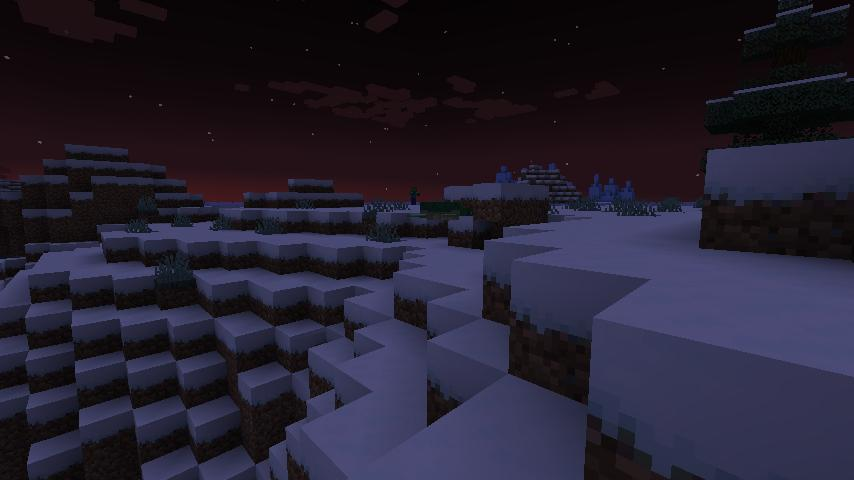turtle: (413, 198, 471, 222)
zombie: (408, 185, 421, 205)
